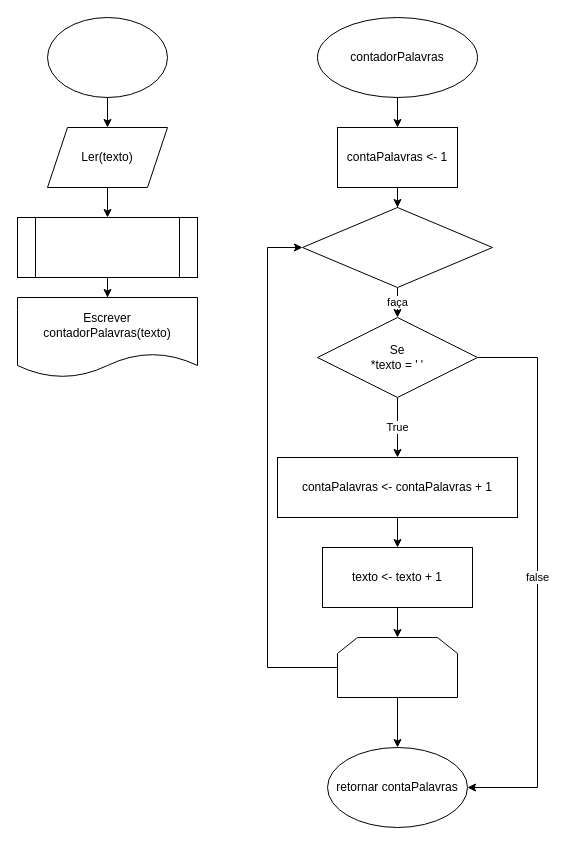
This 566x845 diagram has some shape labels left out. Each missing label, with the box of its shape:
contadorPalavras(texto): (16, 216, 198, 278)
Enquanto *texto != '\0': (302, 206, 492, 288)
Inicio: (46, 16, 168, 98)
repetir: (336, 636, 458, 698)
